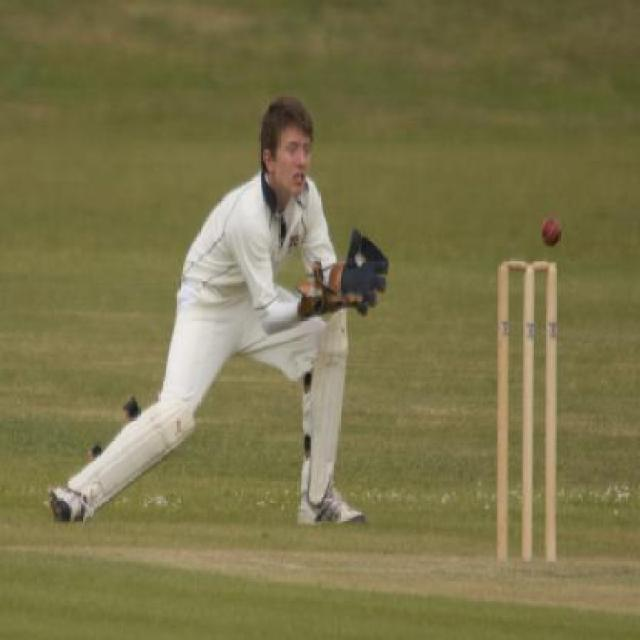-: (536, 195, 569, 262)
